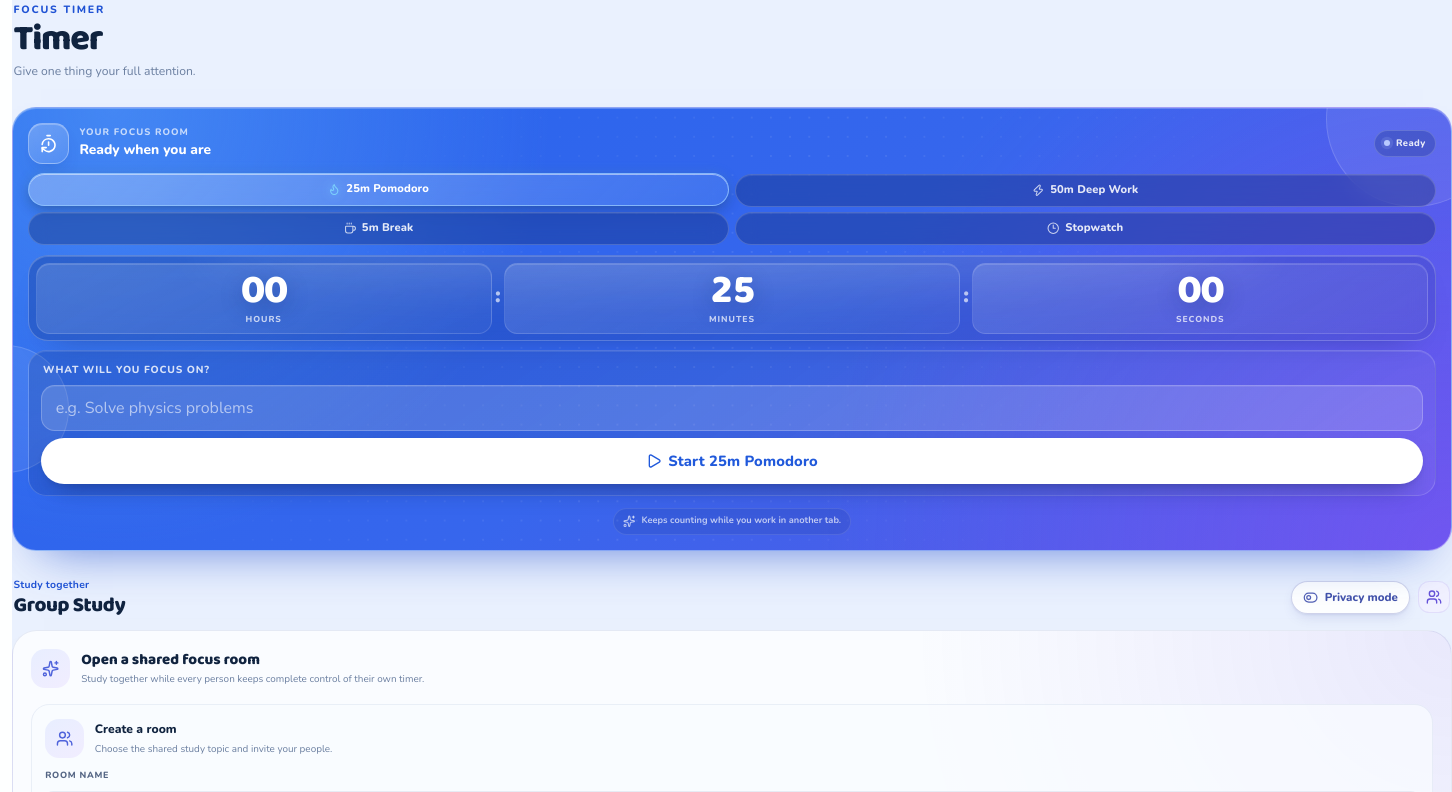
TimerRoute interval modes › switches countdown display when selecting another preset
# Switch to 50m Deep Work
Click the radio button labelled "50m Deep Work": {"x": 1085, "y": 190} x1=735 y1=174 x2=1436 y2=207
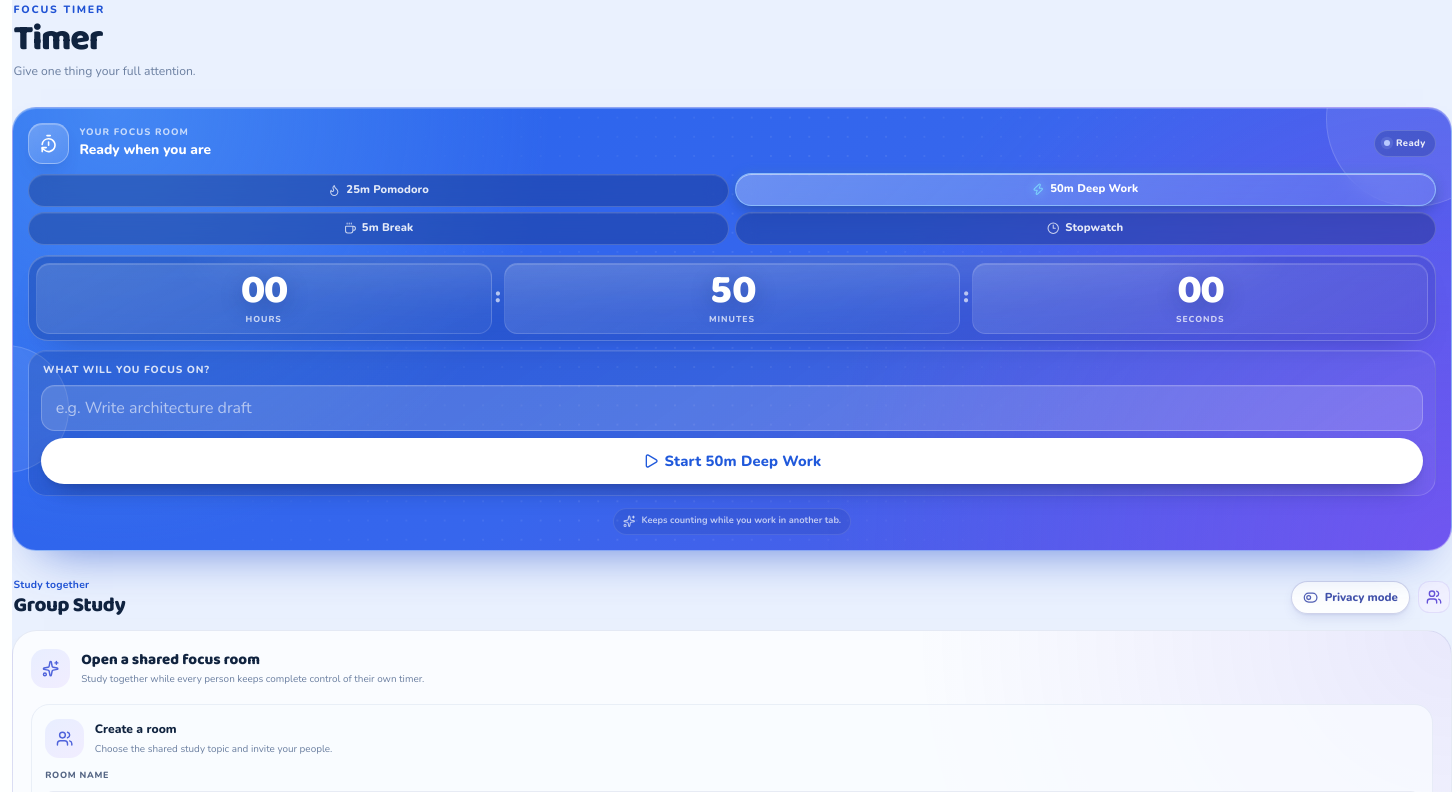
Check: the button "Start 50m Deep Work" is shown, box x1=41 y1=438 x2=1423 y2=484
# Switch to 5m Break
Click the radio button labelled "5m Break": {"x": 379, "y": 229} x1=28 y1=212 x2=729 y2=245
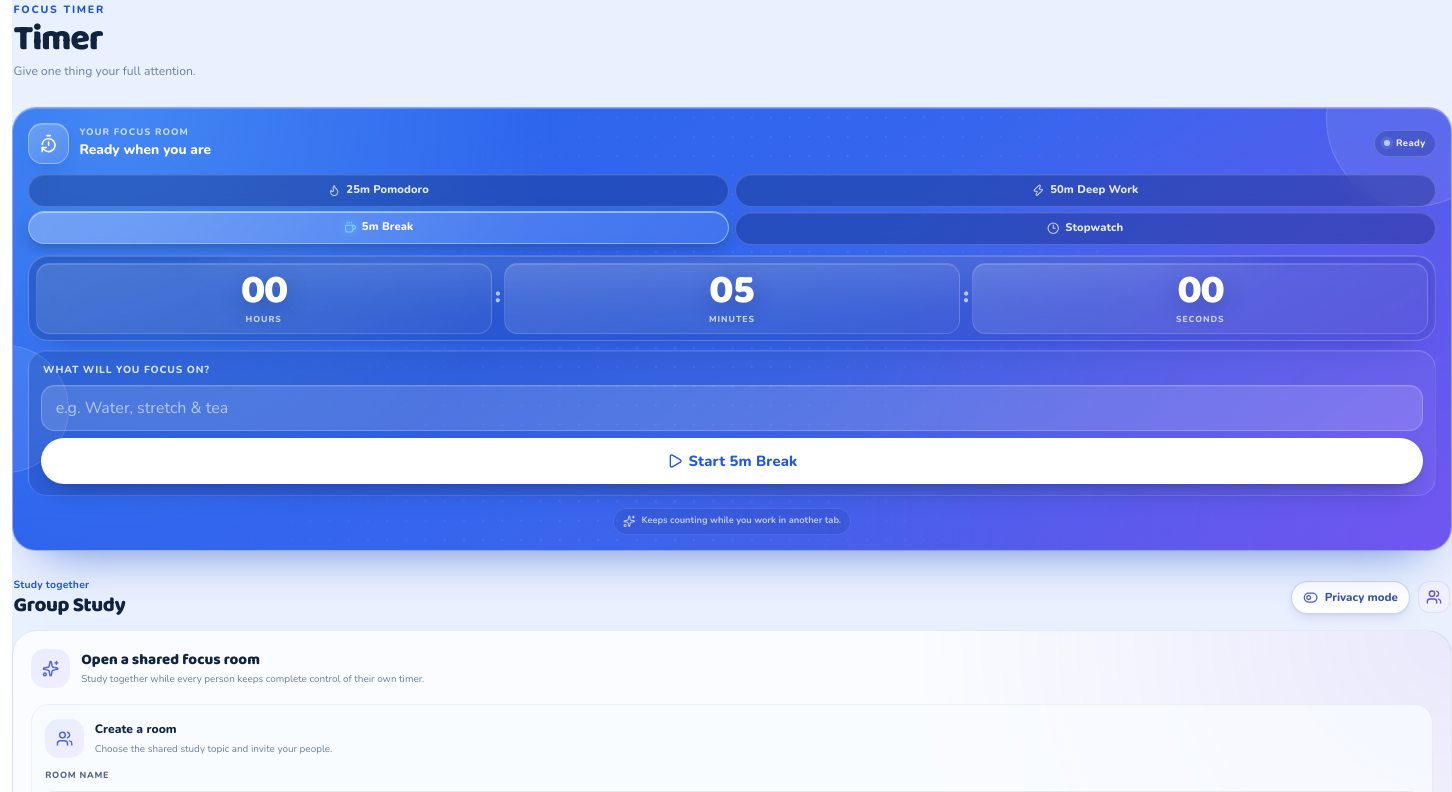
Check: the button "Start 5m Break" is shown, box x1=41 y1=438 x2=1423 y2=484
# Switch to Stopwatch
Click the radio button labelled "Stopwatch": {"x": 1085, "y": 229} x1=735 y1=212 x2=1436 y2=245
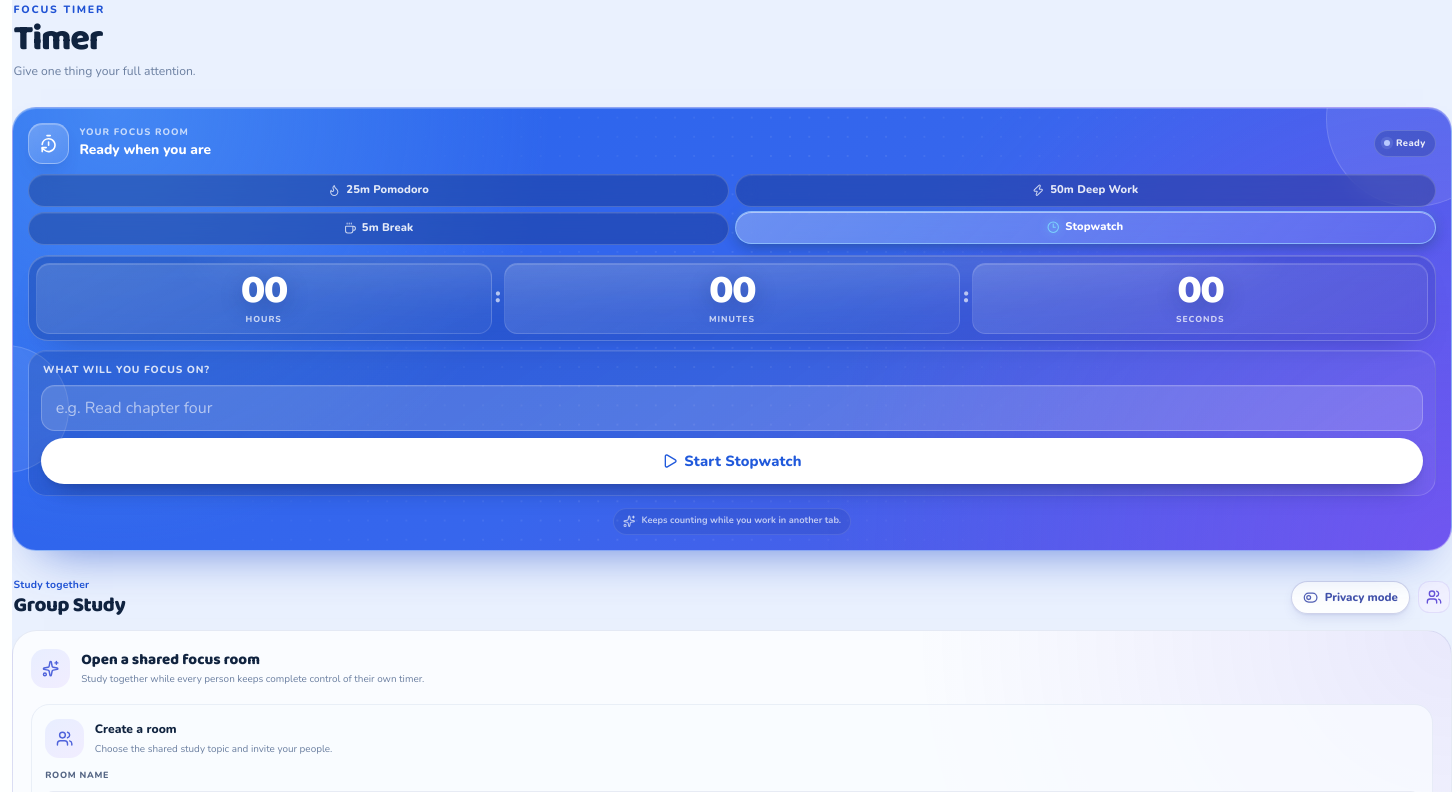
Check: the button "Start Stopwatch" is shown, box x1=41 y1=438 x2=1423 y2=484
